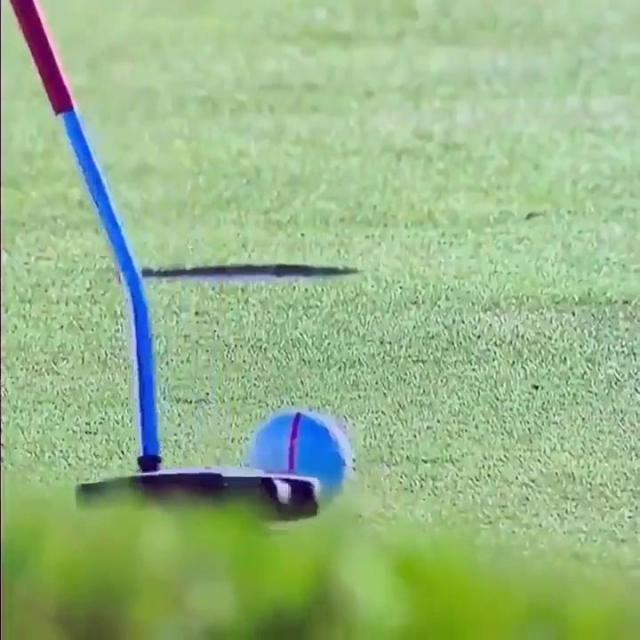ClubHead: (78, 455, 323, 525)
GolfBall: (245, 408, 352, 481)
